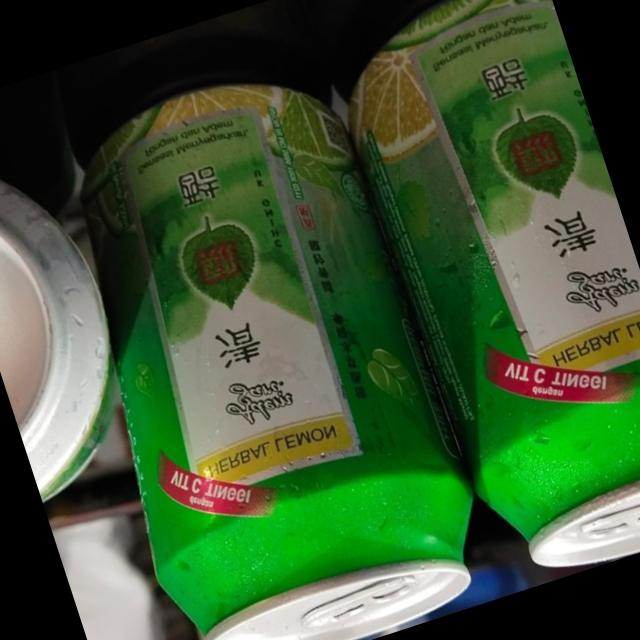ademsarikaleng: (13, 41, 506, 640), (313, 0, 640, 597)
